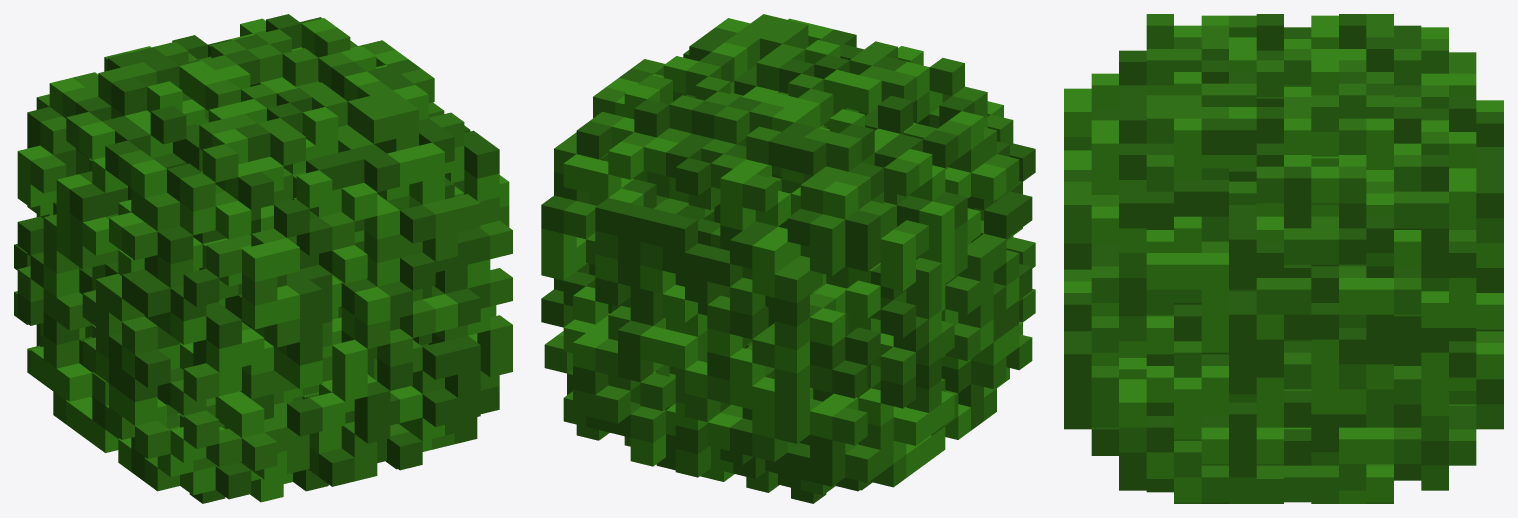
Rendered from Foliage_Bush_3Big.glb.
The picture shows the model from 3 angles, left to right: view 1: azimuth 30°, elevation 25°; view 2: azimuth 150°, elevation 25°; view 3: azimuth 270°, elevation 25°; orthographic projection. The views are drawn at different scales.
Visible parts, largest first — view 1: Foliage_Bush_3Big; view 2: Foliage_Bush_3Big; view 3: Foliage_Bush_3Big.
Boxes of the visible parts, x1=… form: Foliage_Bush_3Big: x1=14, y1=14, x2=512, y2=503; Foliage_Bush_3Big: x1=541, y1=14, x2=1035, y2=503; Foliage_Bush_3Big: x1=1064, y1=14, x2=1503, y2=503.
Size of the model in its own units: 1.6 by 1.5 by 1.6.
Materials: 1 (1 with a texture image).
